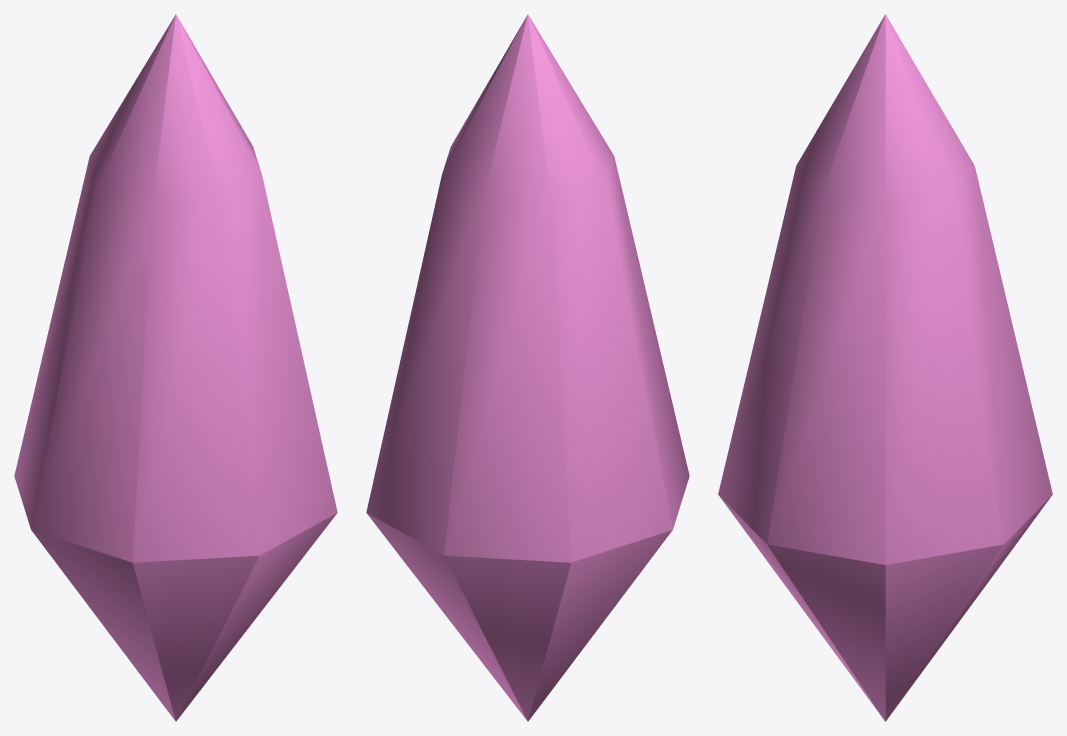
3 views of the same model, side by side, from view 1: azimuth 30°, elevation 25°; view 2: azimuth 150°, elevation 25°; view 3: azimuth 270°, elevation 25° (orthographic).
Size of the model in its own units: 0.6 by 1.4 by 0.6.
